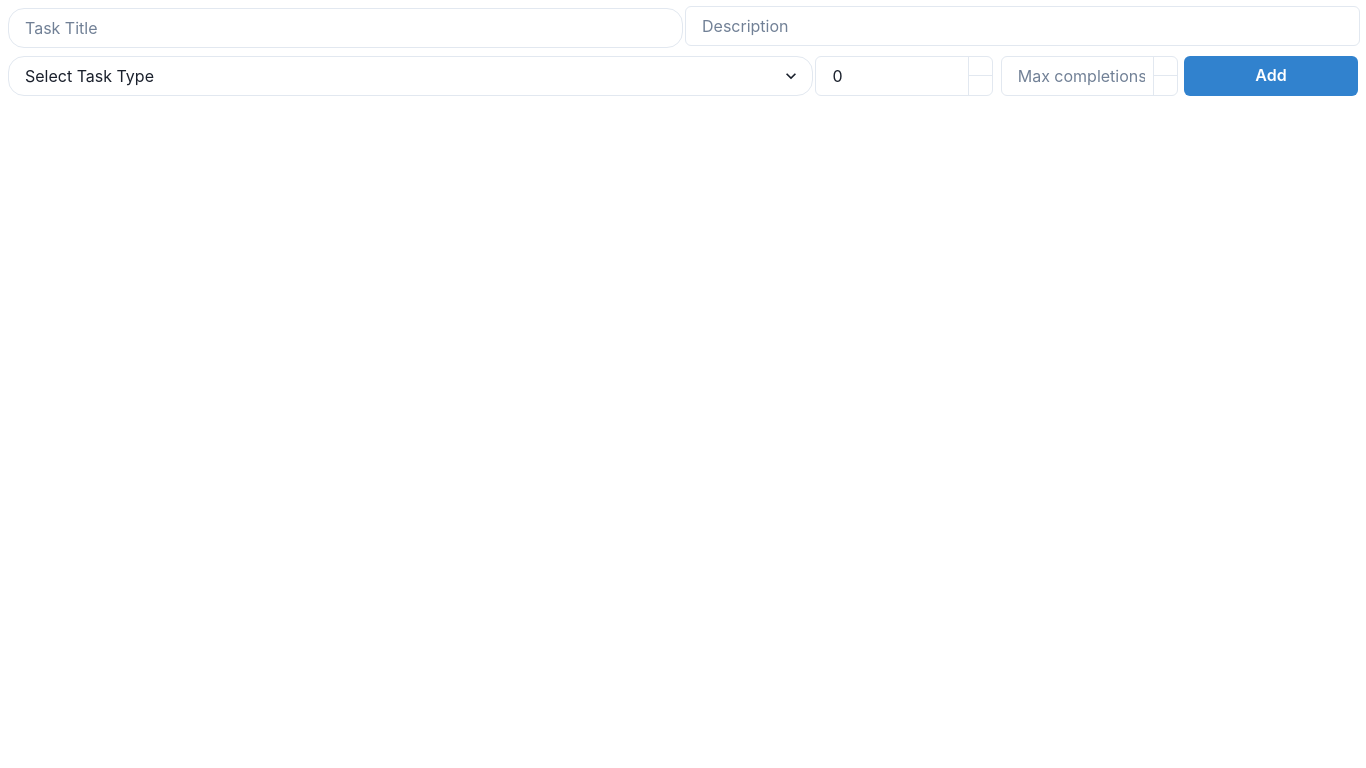
Test: TaskCreation (improvements item 15) › shows an error and does not create the task when a duplicate exists
Type "Find the clue" into the field with placeholder "Task Title" at (346, 28), box [8,8,683,48]
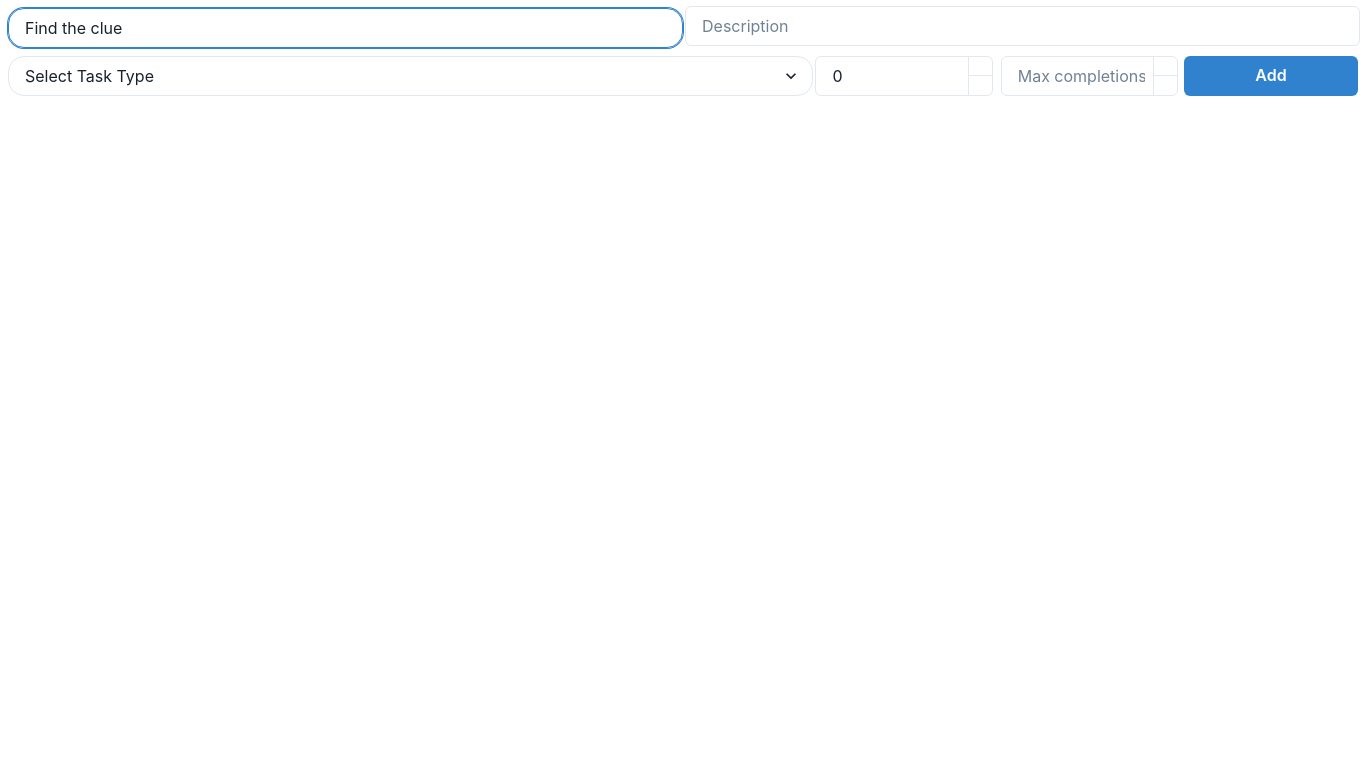
Select "Revival Mission" in the dropdown at (411, 76), box [8,56,813,96]
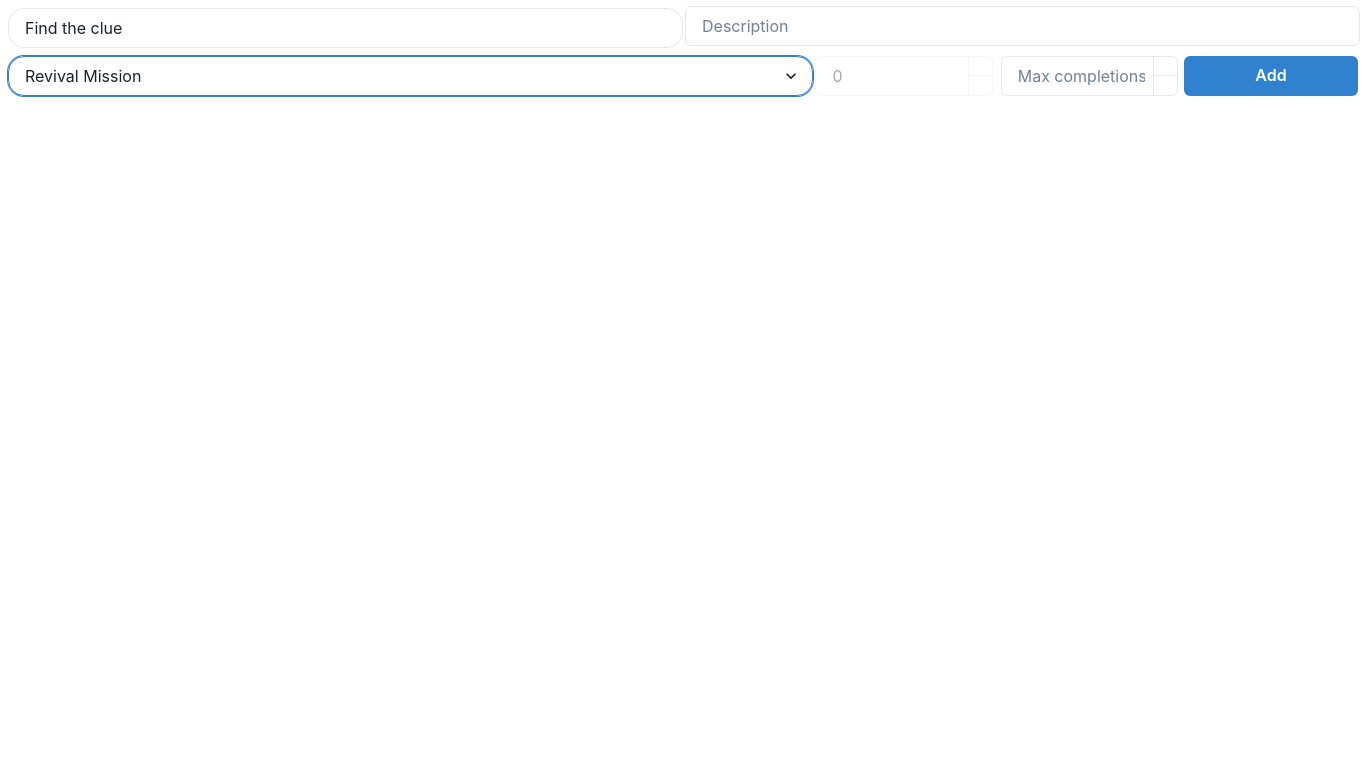
Click the button "Add" at (1271, 76), box [1184,56,1358,96]
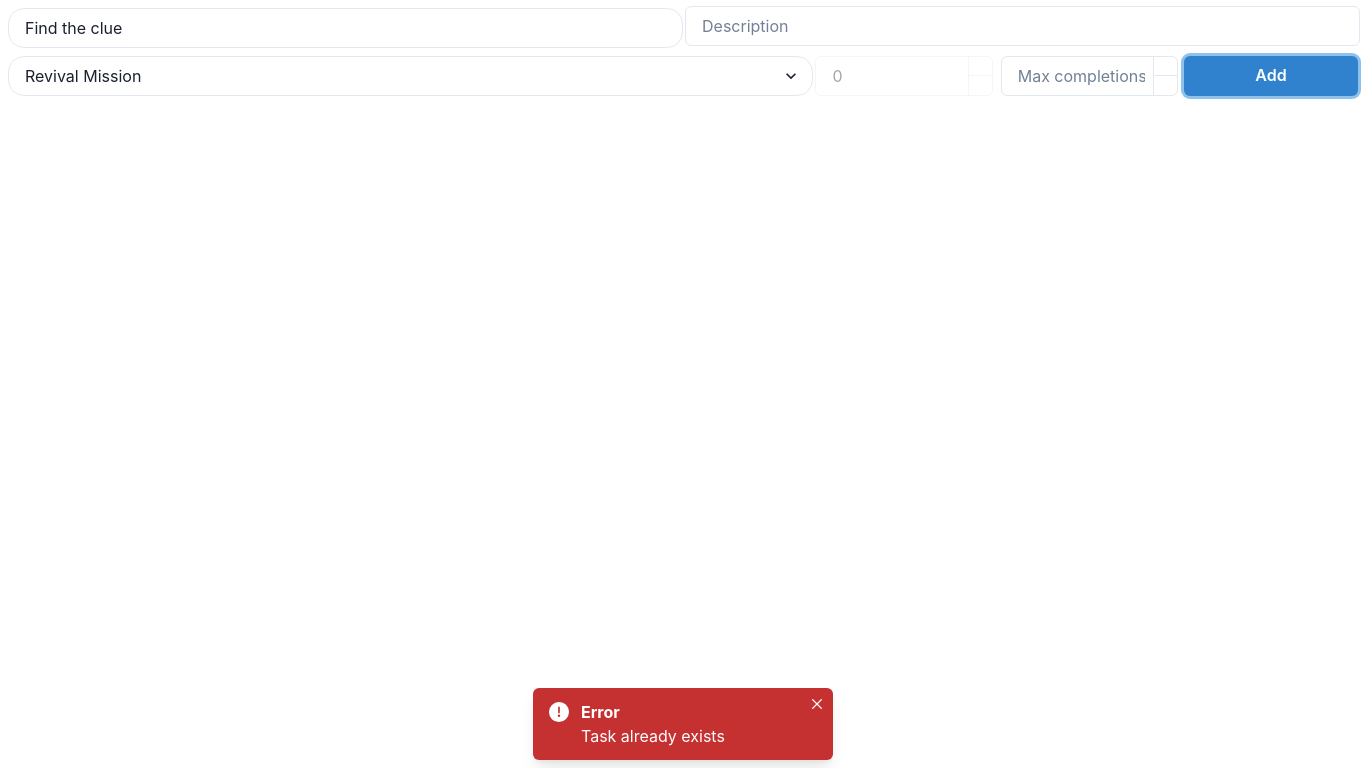
Check: the text "Task already exists" is shown, box [581,726,725,746]
